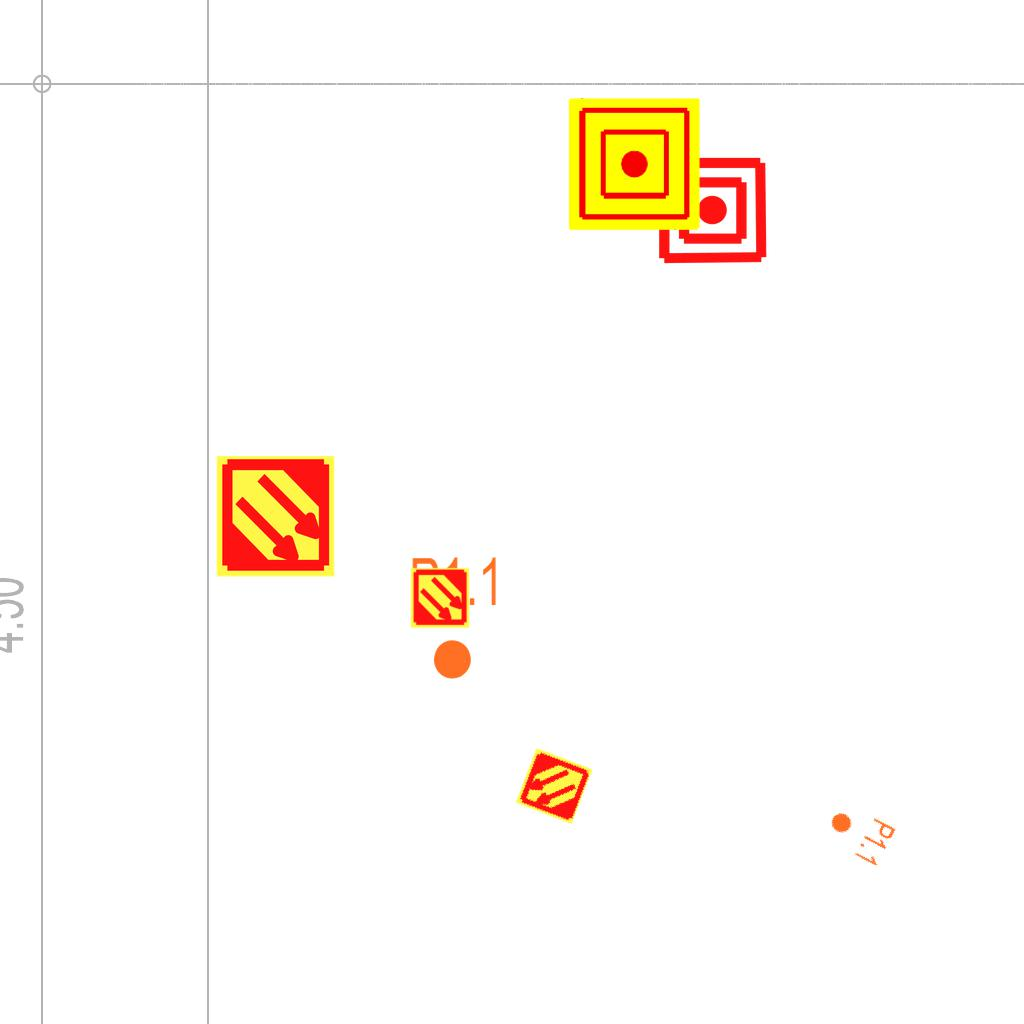ASR_Ansaugrauchmelder: (213, 454, 338, 579), (513, 745, 595, 827), (409, 567, 471, 629)
Downlight_LED_Einbauleuchten_Flur: (409, 554, 502, 682), (819, 798, 899, 870)
NAM-Nichtautomatischer_Melder: (568, 98, 700, 230), (656, 154, 769, 267)
